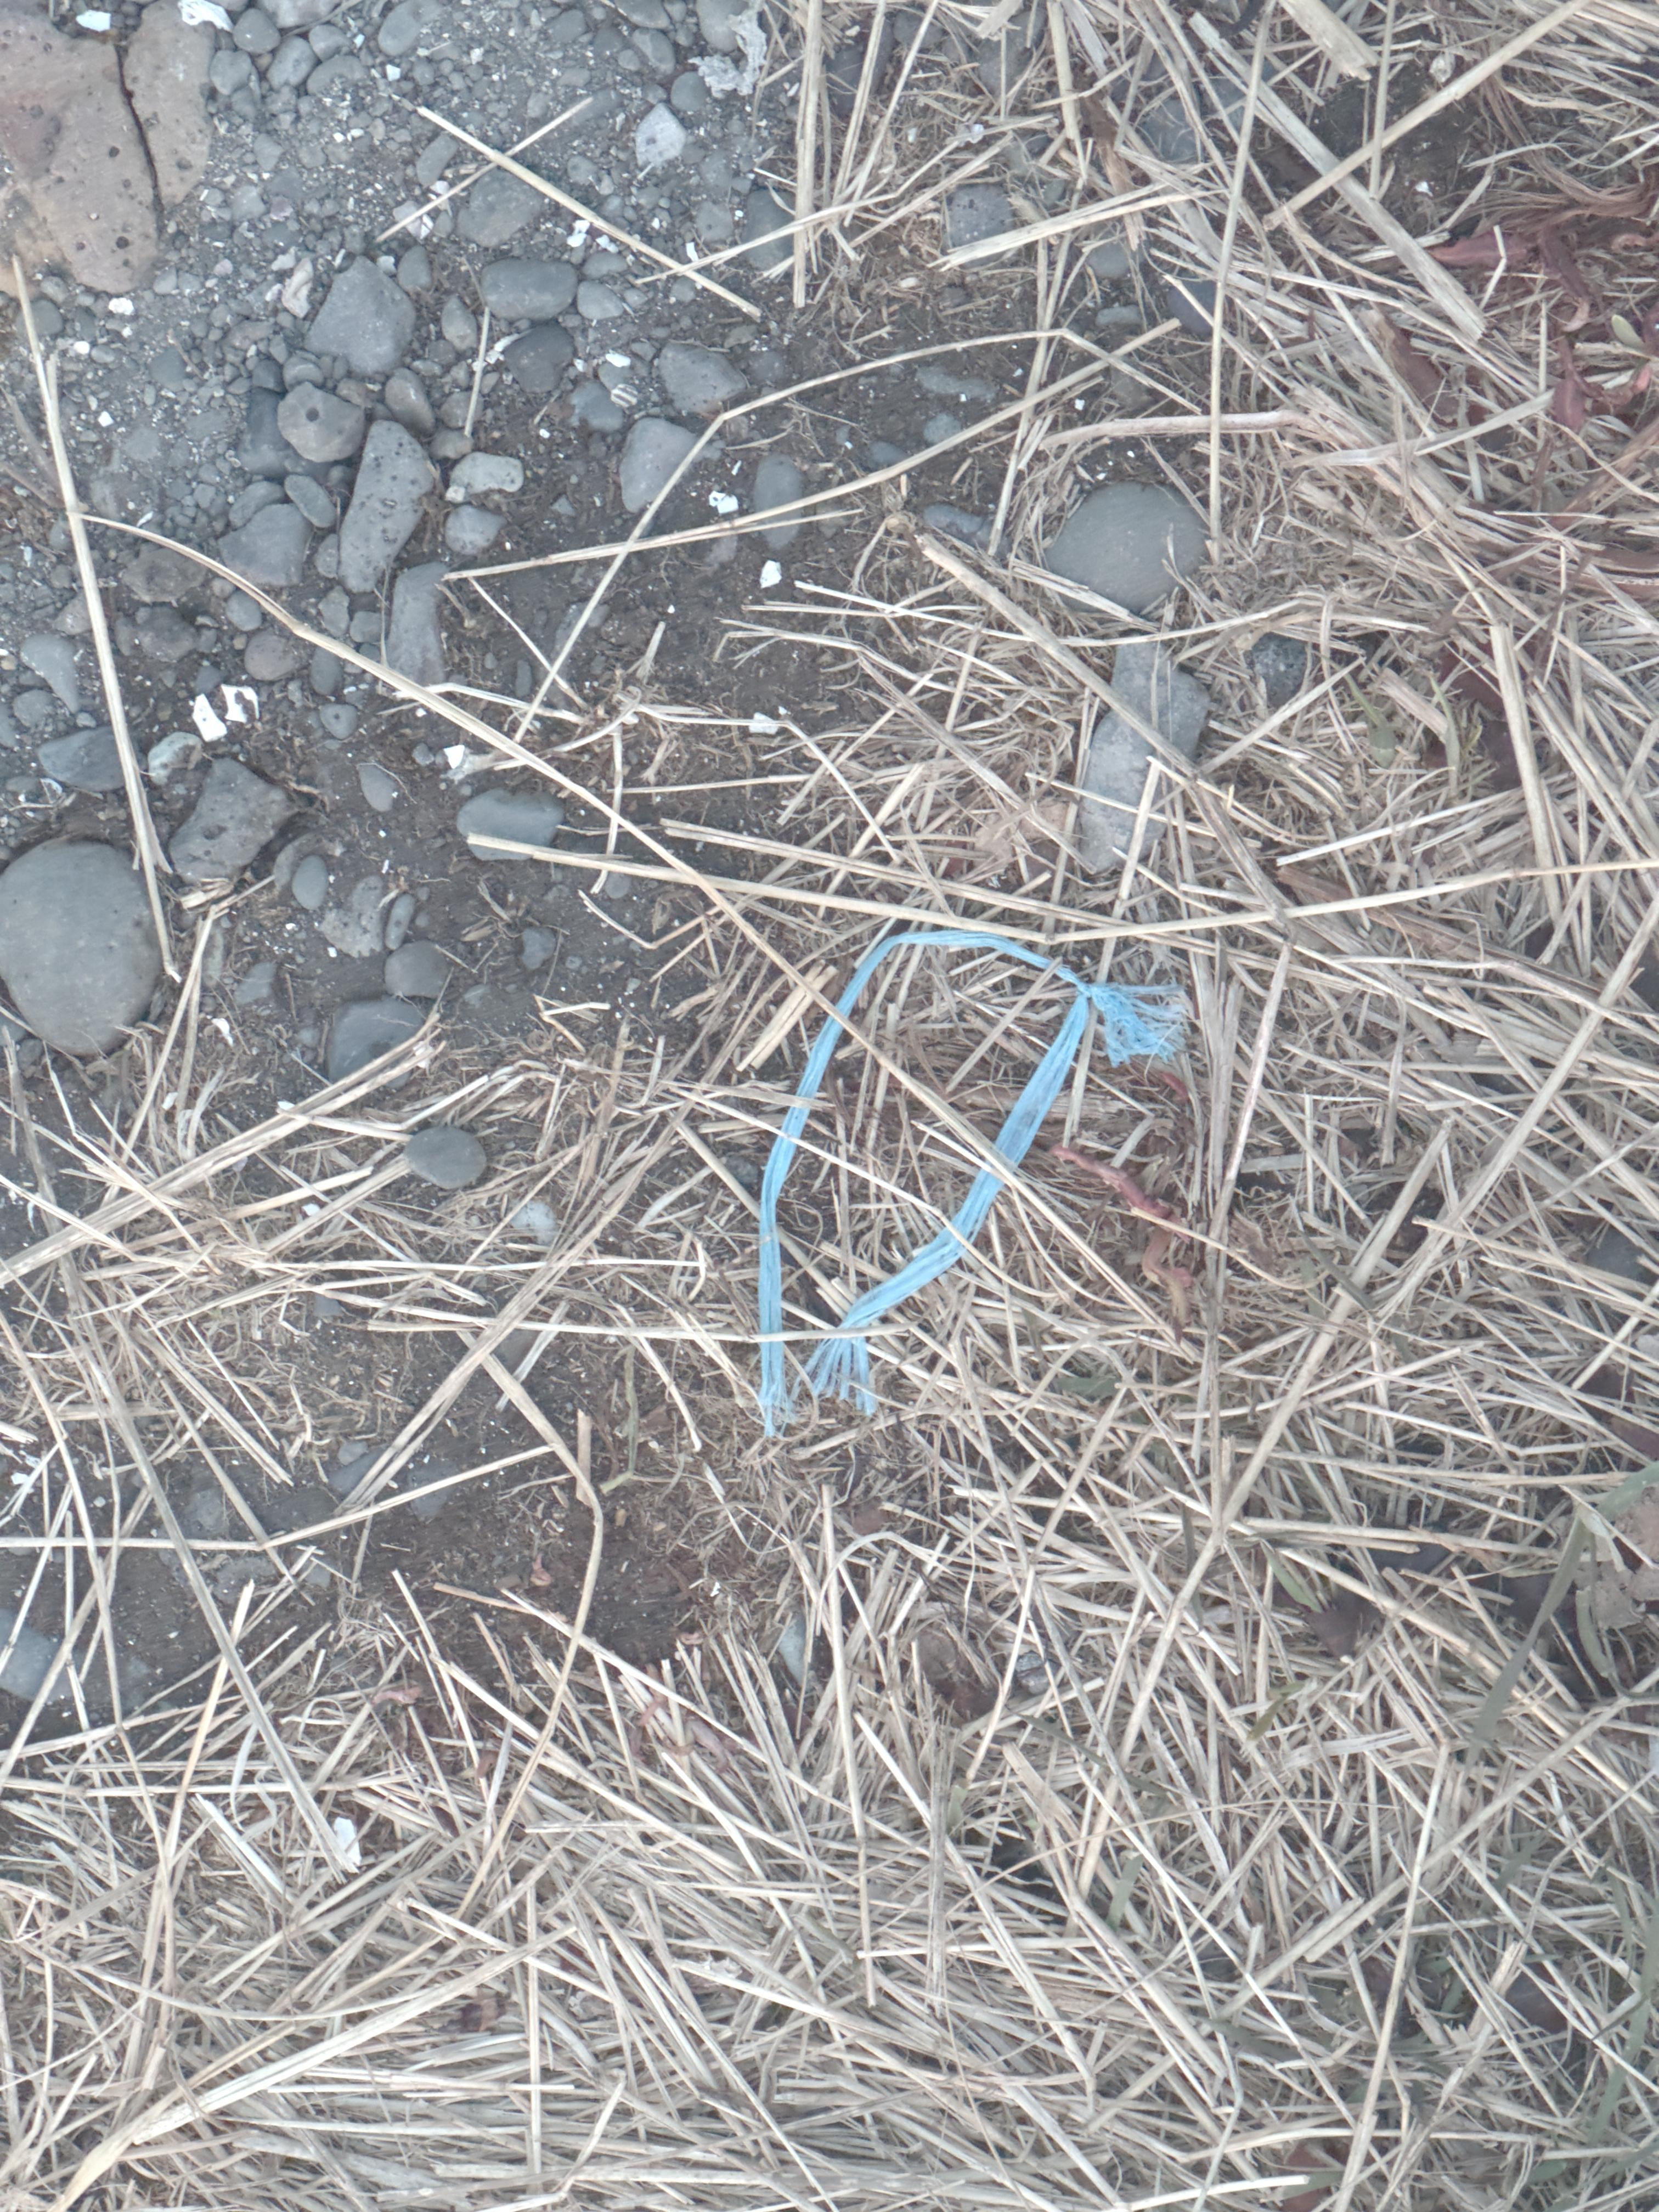trash: (760, 928, 1188, 1435), (803, 1170, 1002, 1413)
